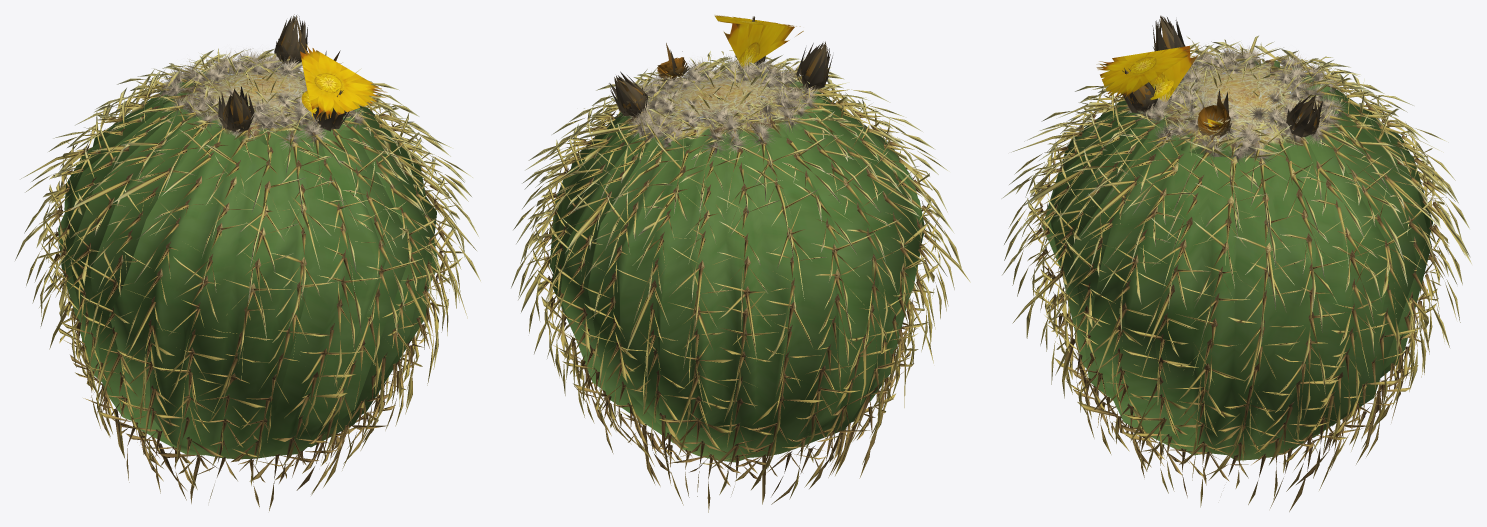
File: barrel0.glb
3 views of the same model, side by side, from view 1: azimuth 30°, elevation 25°; view 2: azimuth 150°, elevation 25°; view 3: azimuth 270°, elevation 25° (orthographic). The views are drawn at different scales.
Visible parts, largest first — view 1: Echinocactus_grusonii_HD_Echinocactus skin_0, Echinocactus_grusonii_HD_Echinocatus spine 01_0, Echinocactus_grusonii_HD_Material_0, Echinocactus_grusonii_HD_Echinocactus flower_0, Echinocactus_grusonii_HD_Echinocactus petal_0, Echinocactus_grusonii_HD_Echinocactus areola 01_0, Echinocactus_grusonii_HD_Echinocactus fur 02_0, Echinocactus_grusonii_HD_Echinocactus fur 03_0, Echinocactus_grusonii_HD_Echinocactus fur 04_0, Echinocactus_grusonii_HD_Echinocactus fur 01_0; view 2: Echinocactus_grusonii_HD_Echinocactus skin_0, Echinocactus_grusonii_HD_Echinocatus spine 01_0, Echinocactus_grusonii_HD_Material_0, Echinocactus_grusonii_HD_Echinocactus petal_0, Echinocactus_grusonii_HD_Echinocactus fur 03_0, Echinocactus_grusonii_HD_Echinocactus fur 02_0, Echinocactus_grusonii_HD_Echinocactus fur 04_0, Echinocactus_grusonii_HD_Echinocactus areola 01_0, Echinocactus_grusonii_HD_Echinocactus flower_0, Echinocactus_grusonii_HD_Echinocactus fur 01_0; view 3: Echinocactus_grusonii_HD_Echinocactus skin_0, Echinocactus_grusonii_HD_Echinocatus spine 01_0, Echinocactus_grusonii_HD_Material_0, Echinocactus_grusonii_HD_Echinocactus petal_0, Echinocactus_grusonii_HD_Echinocactus flower_0, Echinocactus_grusonii_HD_Echinocactus fur 02_0, Echinocactus_grusonii_HD_Echinocactus fur 03_0, Echinocactus_grusonii_HD_Echinocactus areola 01_0, Echinocactus_grusonii_HD_Echinocactus fur 04_0, Echinocactus_grusonii_HD_Echinocactus fur 01_0.
Boxes of the visible parts, x1=… form: Echinocactus_grusonii_HD_Echinocactus skin_0: x1=58, y1=90, x2=438, y2=459; Echinocactus_grusonii_HD_Echinocatus spine 01_0: x1=15, y1=48, x2=480, y2=510; Echinocactus_grusonii_HD_Material_0: x1=163, y1=65, x2=363, y2=145; Echinocactus_grusonii_HD_Echinocactus flower_0: x1=300, y1=43, x2=387, y2=121; Echinocactus_grusonii_HD_Echinocactus petal_0: x1=218, y1=14, x2=349, y2=132; Echinocactus_grusonii_HD_Echinocactus areola 01_0: x1=56, y1=62, x2=441, y2=461; Echinocactus_grusonii_HD_Echinocactus fur 02_0: x1=163, y1=49, x2=360, y2=141; Echinocactus_grusonii_HD_Echinocactus fur 03_0: x1=186, y1=55, x2=314, y2=133; Echinocactus_grusonii_HD_Echinocactus fur 04_0: x1=195, y1=55, x2=307, y2=120; Echinocactus_grusonii_HD_Echinocactus fur 01_0: x1=153, y1=50, x2=370, y2=151; Echinocactus_grusonii_HD_Echinocactus skin_0: x1=549, y1=81, x2=925, y2=462; Echinocactus_grusonii_HD_Echinocatus spine 01_0: x1=511, y1=51, x2=970, y2=512; Echinocactus_grusonii_HD_Material_0: x1=628, y1=70, x2=823, y2=148; Echinocactus_grusonii_HD_Echinocactus petal_0: x1=609, y1=16, x2=832, y2=117; Echinocactus_grusonii_HD_Echinocactus fur 03_0: x1=642, y1=56, x2=805, y2=134; Echinocactus_grusonii_HD_Echinocactus fur 02_0: x1=618, y1=55, x2=821, y2=144; Echinocactus_grusonii_HD_Echinocactus fur 04_0: x1=652, y1=60, x2=792, y2=125; Echinocactus_grusonii_HD_Echinocactus areola 01_0: x1=547, y1=68, x2=926, y2=457; Echinocactus_grusonii_HD_Echinocactus flower_0: x1=714, y1=15, x2=803, y2=68; Echinocactus_grusonii_HD_Echinocactus fur 01_0: x1=624, y1=59, x2=799, y2=157; Echinocactus_grusonii_HD_Echinocactus skin_0: x1=1042, y1=71, x2=1432, y2=460; Echinocactus_grusonii_HD_Echinocatus spine 01_0: x1=1001, y1=35, x2=1471, y2=511; Echinocactus_grusonii_HD_Material_0: x1=1136, y1=59, x2=1338, y2=157; Echinocactus_grusonii_HD_Echinocactus petal_0: x1=1122, y1=15, x2=1323, y2=137; Echinocactus_grusonii_HD_Echinocactus flower_0: x1=1096, y1=45, x2=1199, y2=102; Echinocactus_grusonii_HD_Echinocactus fur 02_0: x1=1135, y1=46, x2=1341, y2=156; Echinocactus_grusonii_HD_Echinocactus fur 03_0: x1=1150, y1=45, x2=1327, y2=140; Echinocactus_grusonii_HD_Echinocactus areola 01_0: x1=1040, y1=60, x2=1435, y2=457; Echinocactus_grusonii_HD_Echinocactus fur 04_0: x1=1168, y1=50, x2=1310, y2=126; Echinocactus_grusonii_HD_Echinocactus fur 01_0: x1=1120, y1=50, x2=1347, y2=165.
Size of the model in its own units: 0.2431 by 0.2536 by 0.2358.
Materials: 15 (15 with a texture image).
